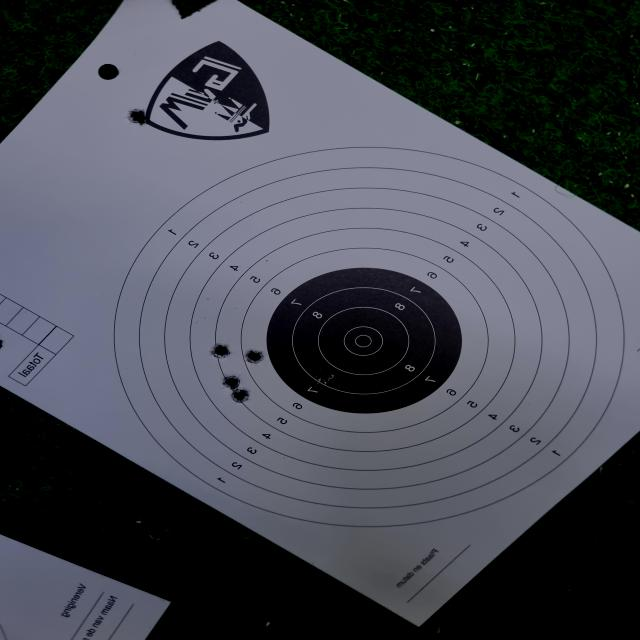0: (127, 108, 148, 126)
5: (220, 374, 243, 390), (209, 344, 230, 360), (230, 388, 249, 404)
6: (243, 349, 264, 365)
8: (313, 367, 337, 384)
Target: (111, 146, 623, 528)
black_contour: (265, 266, 463, 414)
